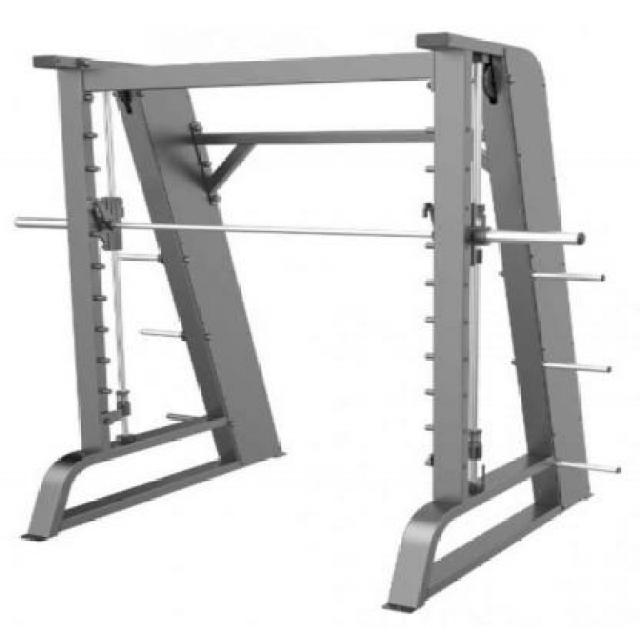smith machine: (17, 31, 625, 614)
